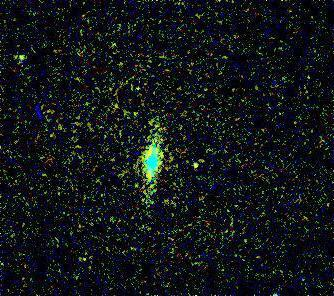star: (180, 151, 210, 181)
